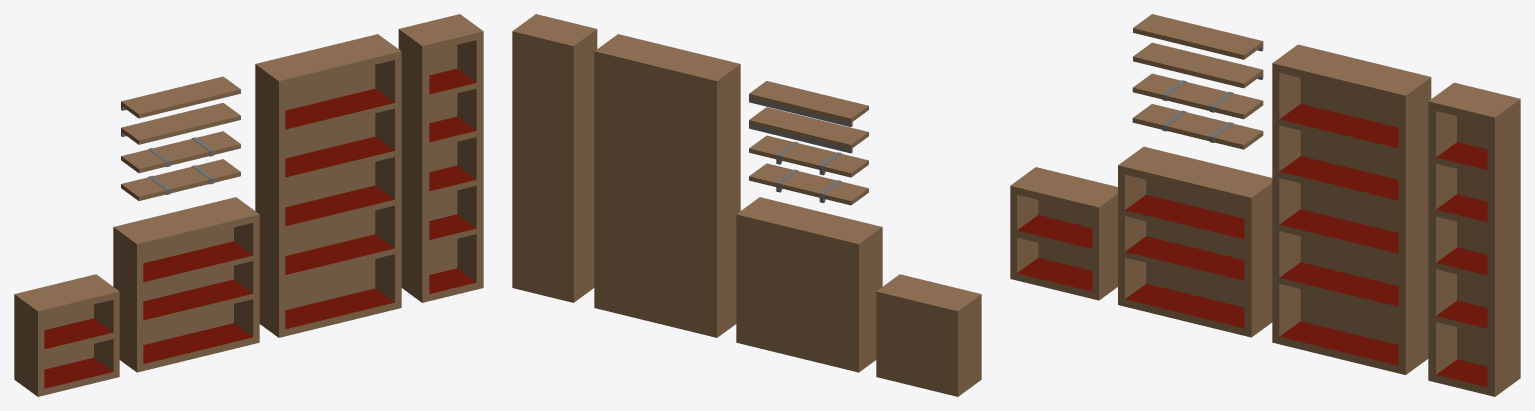
Rendered from Bookshelf Set.fbx.
3 views of the same model, side by side, from view 1: azimuth 30°, elevation 25°; view 2: azimuth 150°, elevation 25°; view 3: azimuth 330°, elevation 25° (orthographic). The views are drawn at different scales.
Visible parts, largest first — view 1: Bookshelf_Large, Bookshelf_Tall, Bookshelf_Small, Bookshelf_Mini, Shelf_Wall_1, Shelf_Wall_2, Shelf_Wall_3, Shelf_Wall_4; view 2: Bookshelf_Large, Bookshelf_Tall, Bookshelf_Small, Bookshelf_Mini, Shelf_Wall_2, Shelf_Wall_1, Shelf_Wall_3, Shelf_Wall_4; view 3: Bookshelf_Large, Bookshelf_Tall, Bookshelf_Small, Bookshelf_Mini, Shelf_Wall_1, Shelf_Wall_2, Shelf_Wall_4, Shelf_Wall_3.
Boxes of the visible parts, x1,y1,x2,y2 form: Bookshelf_Large: (255, 34, 401, 337); Bookshelf_Tall: (398, 14, 483, 302); Bookshelf_Small: (113, 197, 259, 372); Bookshelf_Mini: (14, 274, 119, 396); Shelf_Wall_1: (121, 76, 240, 118); Shelf_Wall_2: (121, 102, 240, 144); Shelf_Wall_3: (121, 131, 240, 173); Shelf_Wall_4: (121, 159, 240, 200); Bookshelf_Large: (594, 34, 740, 337); Bookshelf_Tall: (512, 14, 597, 302); Bookshelf_Small: (736, 197, 882, 372); Bookshelf_Mini: (876, 274, 981, 396); Shelf_Wall_2: (749, 107, 868, 153); Shelf_Wall_1: (749, 81, 868, 126); Shelf_Wall_3: (749, 135, 868, 177); Shelf_Wall_4: (749, 163, 868, 205); Bookshelf_Large: (1272, 44, 1431, 374); Bookshelf_Tall: (1428, 82, 1520, 396); Bookshelf_Small: (1118, 146, 1272, 337); Bookshelf_Mini: (1010, 167, 1117, 300); Shelf_Wall_1: (1133, 14, 1263, 59); Shelf_Wall_2: (1133, 42, 1263, 88); Shelf_Wall_4: (1132, 104, 1263, 149); Shelf_Wall_3: (1132, 73, 1263, 119).
Bounding box in the file's own units: 218 × 120 × 20.2.
